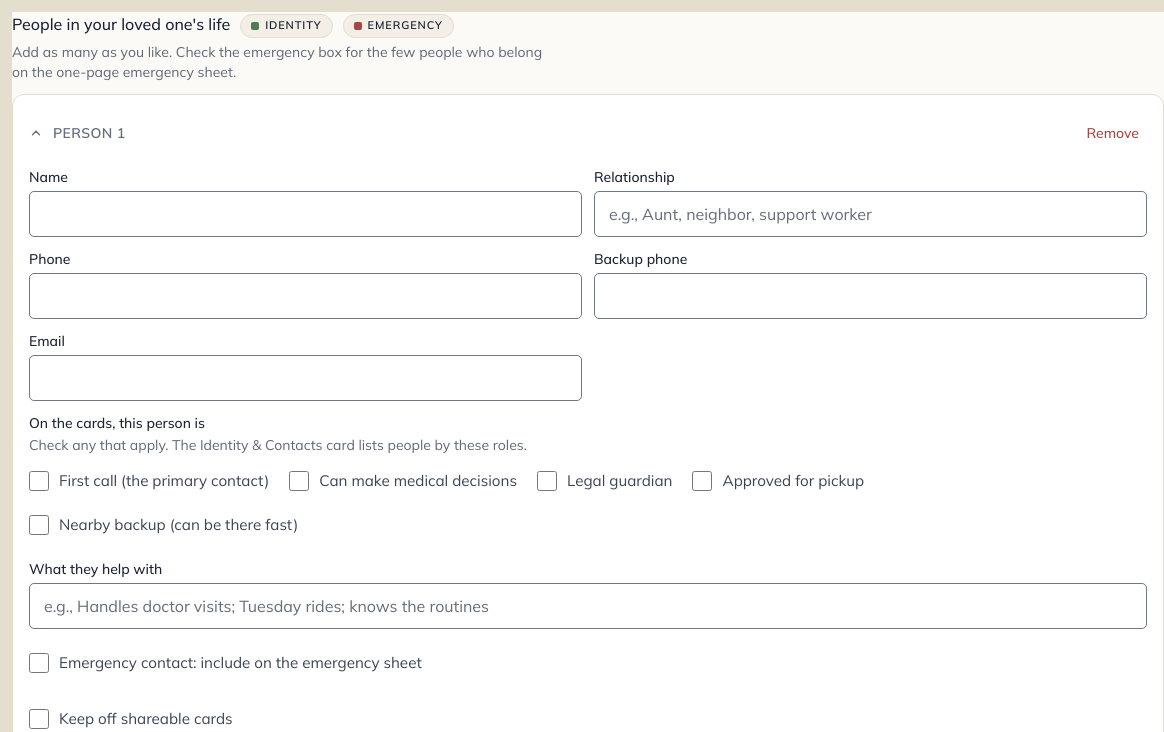
SectionForm › shows a gentle hint for an odd email, and no hint when empty
Type "not-an-email" into the field labelled "Email" at [306, 378], box [29, 355, 582, 401]
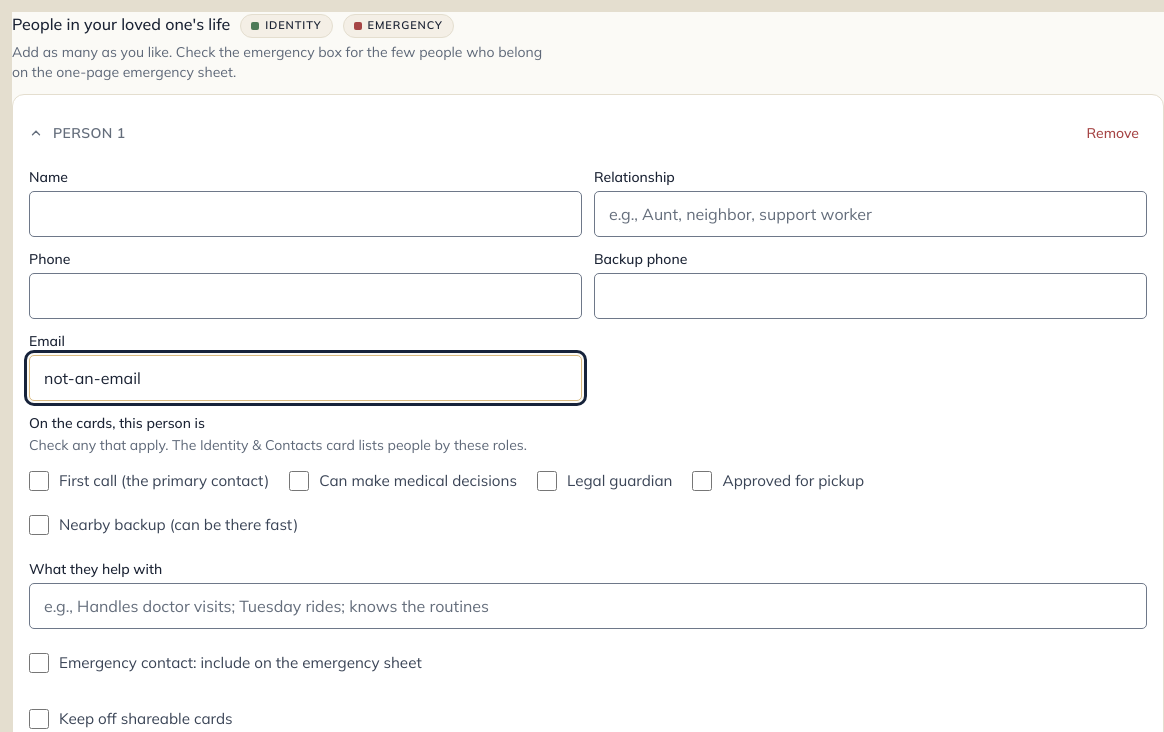
Press Tab
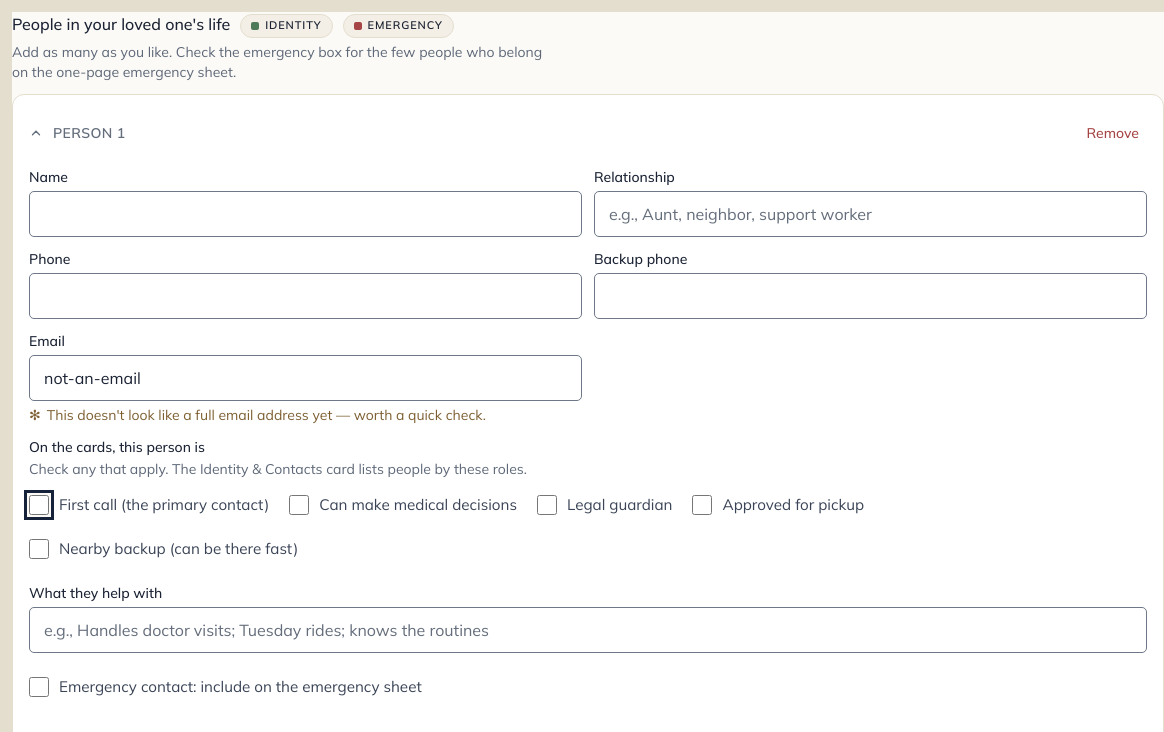
Check: the text "doesn't look like a full email address yet" is shown, box [47, 406, 486, 424]
Clear the field labelled "Email" at [306, 378], box [29, 355, 582, 401]
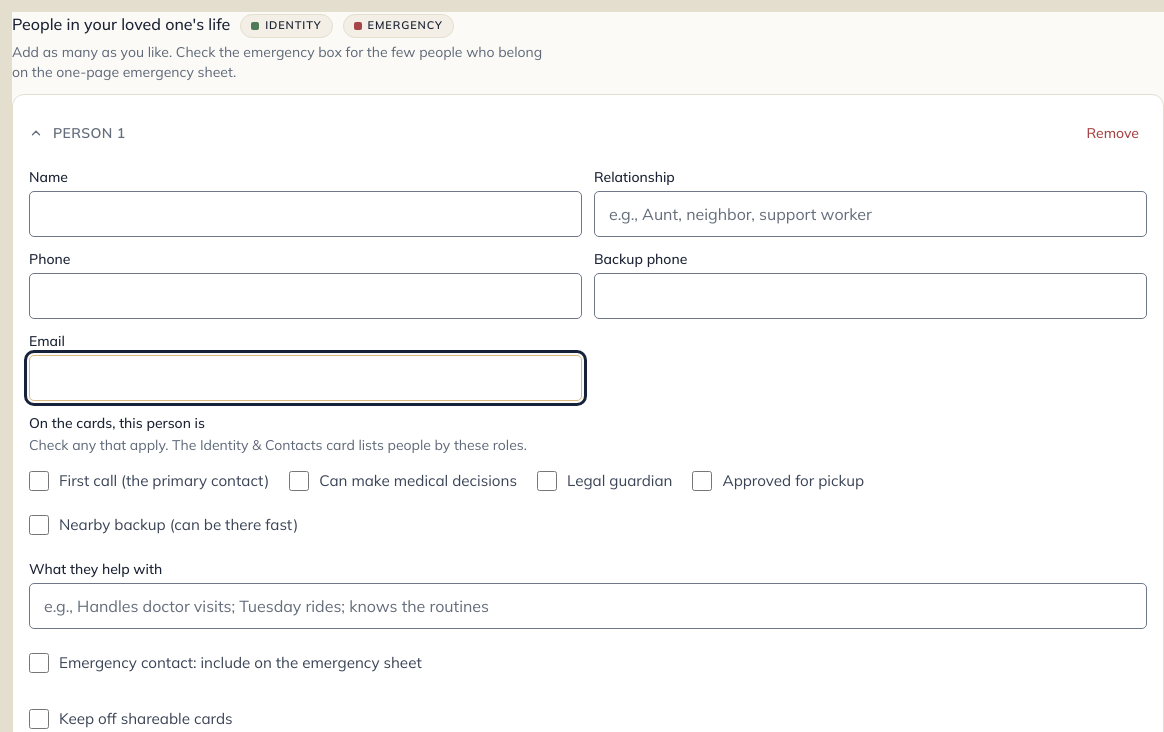
Check: the text "doesn't look like a full email address yet" is gone
